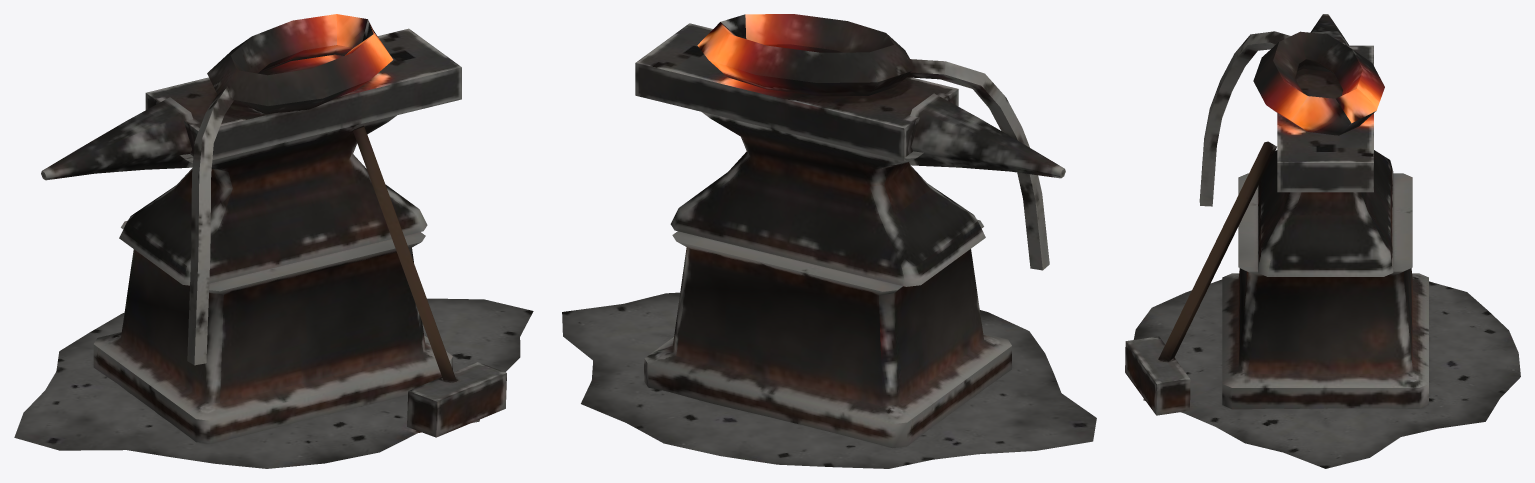
The model's file is foundry_anvil.glb.
The picture shows the model from 3 angles, left to right: view 1: azimuth 30°, elevation 25°; view 2: azimuth 150°, elevation 25°; view 3: azimuth 270°, elevation 25°; orthographic projection. The views are drawn at different scales.
Visible parts, largest first — view 1: foundry_anvil; view 2: foundry_anvil; view 3: foundry_anvil.
Boxes of the visible parts, bbox=[...] form: foundry_anvil: bbox=[14, 14, 533, 468]; foundry_anvil: bbox=[562, 14, 1096, 468]; foundry_anvil: bbox=[1125, 14, 1520, 468].
Bounding box in the file's own units: 1.7 × 1.03 × 1.23.
1 material, 1 textured.
